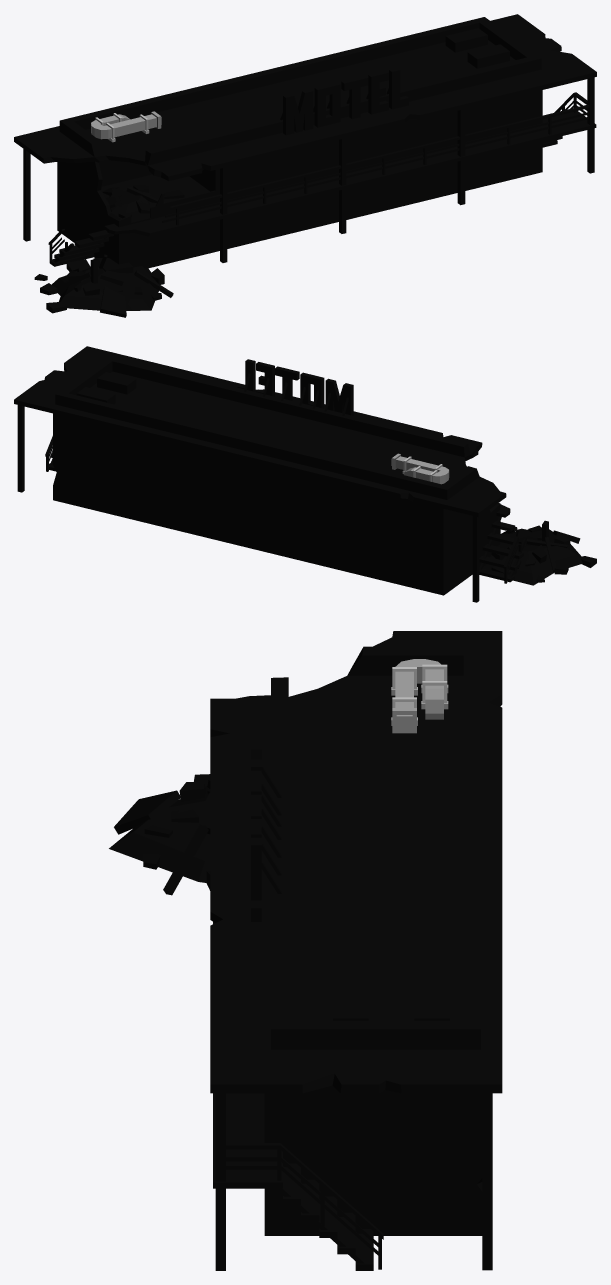
Rendered from SA_Bld_Motel_Damaged_01.gltf.
The picture shows the model from 3 angles, top to bottom: view 1: azimuth 30°, elevation 25°; view 2: azimuth 150°, elevation 25°; view 3: azimuth 270°, elevation 25°; orthographic projection. The views are drawn at different scales.
Parts seen in each view (by area): view 1: SA_Bld_Motel_Damaged_01; view 2: SA_Bld_Motel_Damaged_01; view 3: SA_Bld_Motel_Damaged_01.
Part boxes in pixels (x1=…): SA_Bld_Motel_Damaged_01: x1=14, y1=14, x2=596, y2=317; SA_Bld_Motel_Damaged_01: x1=14, y1=346, x2=596, y2=602; SA_Bld_Motel_Damaged_01: x1=109, y1=631, x2=502, y2=1270.
Size of the model in its own units: 45.72 by 11.96 by 15.4.
Materials: 1 (1 with a texture image).
